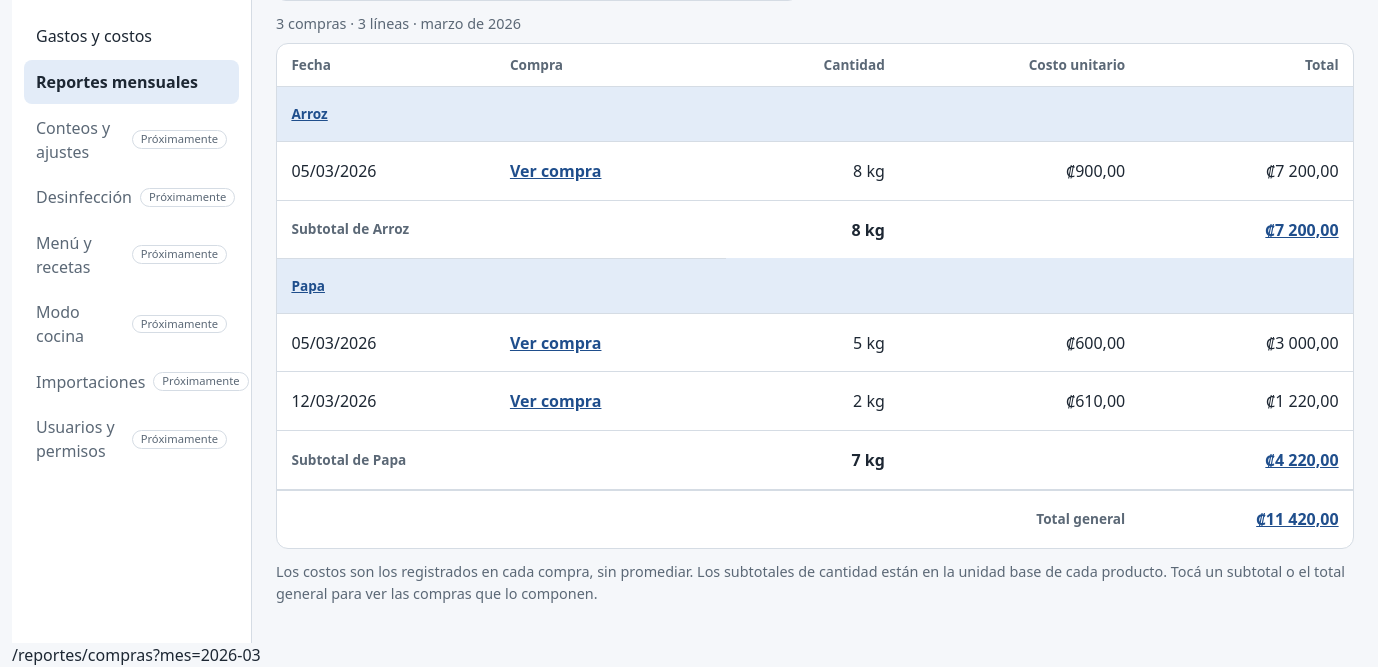
Scenario: reporte de compras: cada total se puede verificar › «Ver compra» abre el detalle de esa compra
(page scrolled)
Expected: the table is shown, [277,44,1353,548]
Click the link with aria-label "Ver la compra del 12/03/2026 de Papa" at (556, 401), box [510,384,601,419]
(page scrolled)
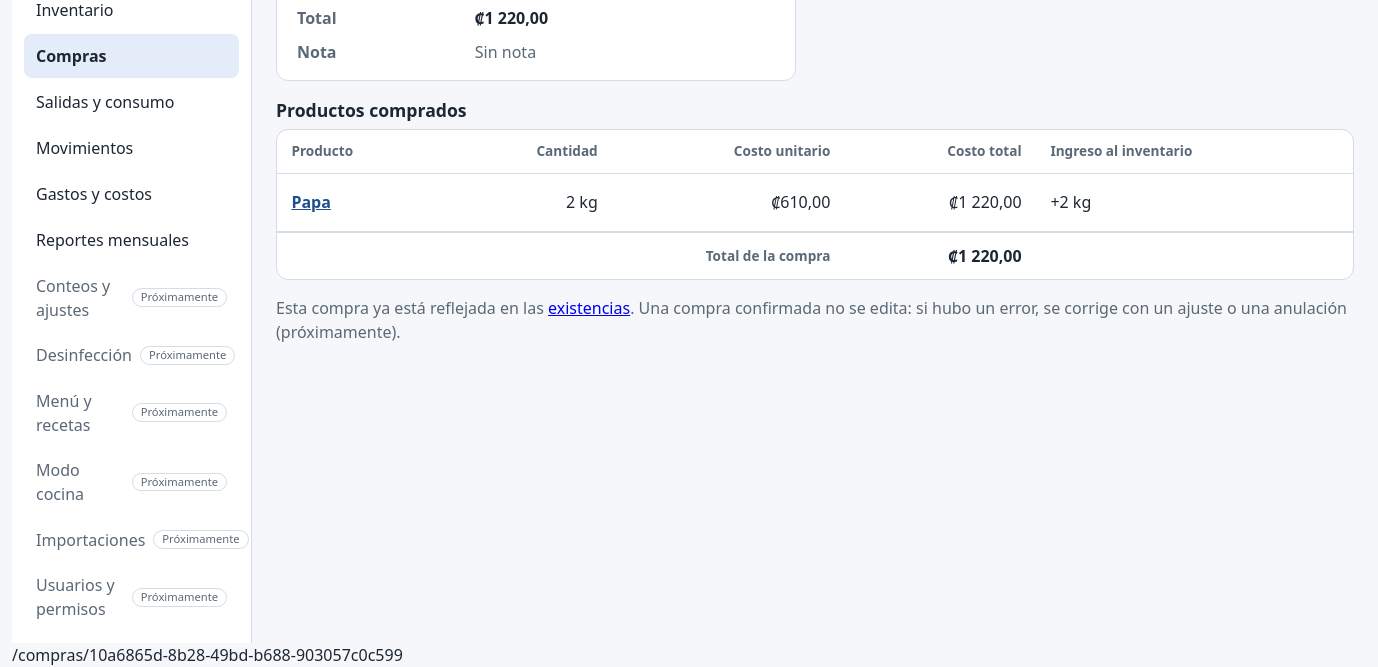
Result: the text with test id "ubicacion" reads "/compras/10a6865d-8b28-49bd-b688-903057c0c599" at [12,644,403,666]
